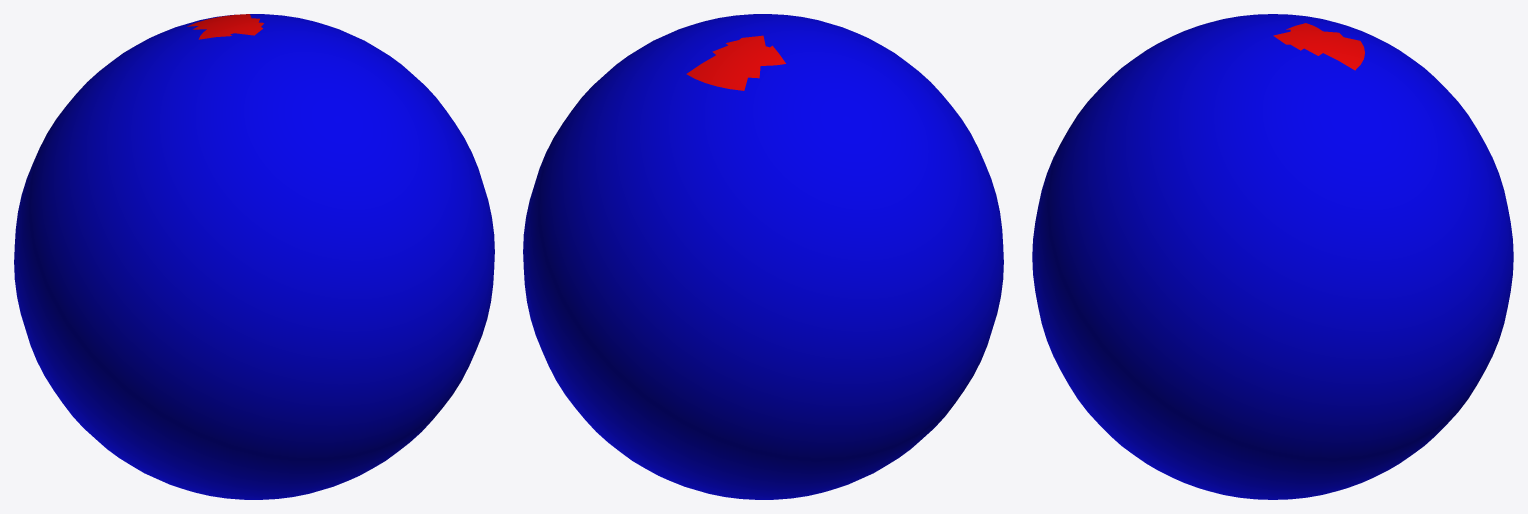
The model's file is BackDropSphere.fbx.
The picture shows the model from 3 angles, left to right: view 1: azimuth 30°, elevation 25°; view 2: azimuth 150°, elevation 25°; view 3: azimuth 270°, elevation 25°; orthographic projection.
Parts seen in each view (by area): view 1: BackDropSphere_HPIC; view 2: BackDropSphere_HPIC; view 3: BackDropSphere_HPIC.
Boxes of the visible parts, x1,y1,x2,y2 form: BackDropSphere_HPIC: (14,14,494,499); BackDropSphere_HPIC: (523,14,1003,499); BackDropSphere_HPIC: (1032,14,1513,499).
Bounding box in the file's own units: 23.63 × 23.76 × 23.63.
